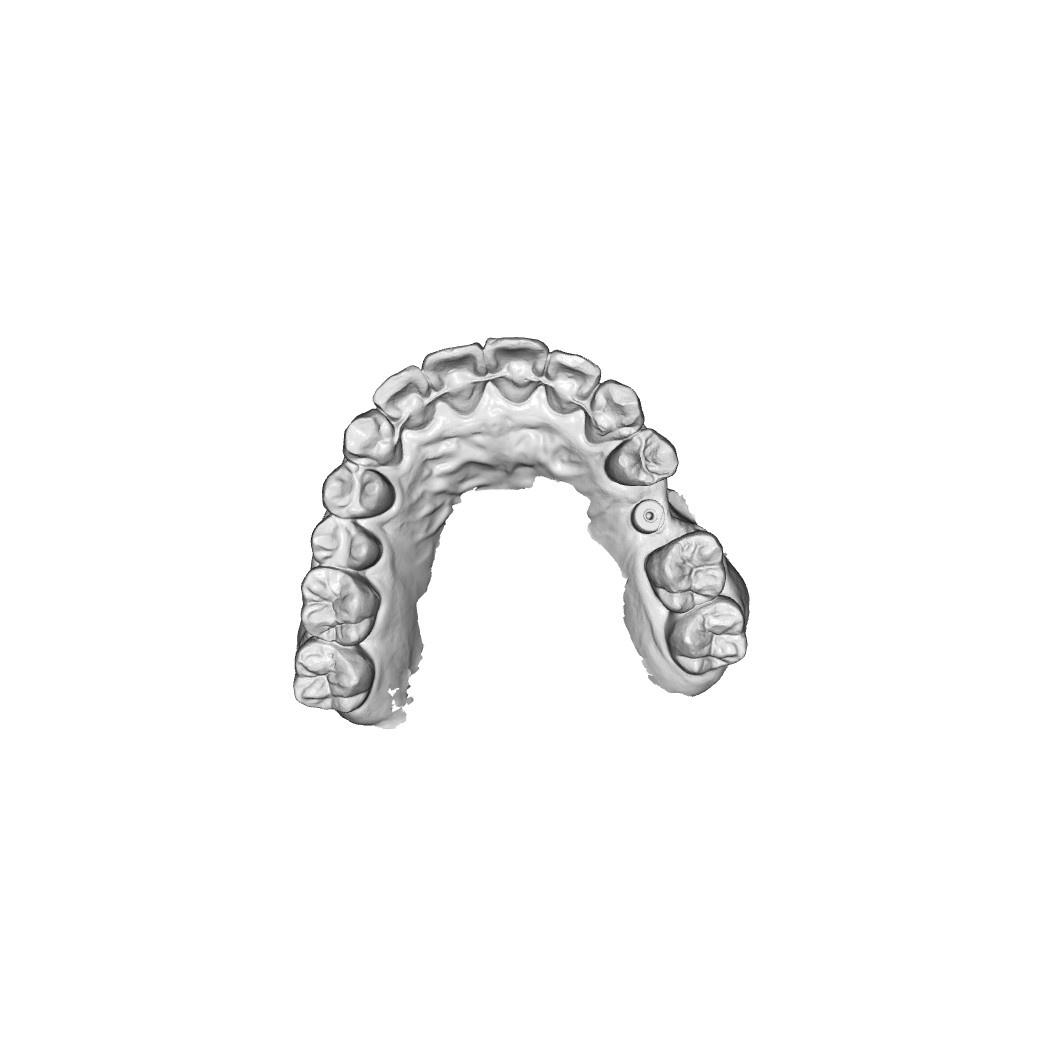canine: (339, 407, 408, 468), (584, 378, 645, 444)
implant: (628, 497, 666, 533)
incisor: (486, 334, 554, 404), (422, 343, 488, 415), (370, 365, 437, 429), (542, 348, 602, 418)
molar: (642, 529, 728, 611), (289, 638, 377, 715), (668, 597, 749, 679), (298, 566, 378, 647)
premolar: (307, 515, 384, 573), (319, 464, 396, 520), (605, 428, 680, 485)
